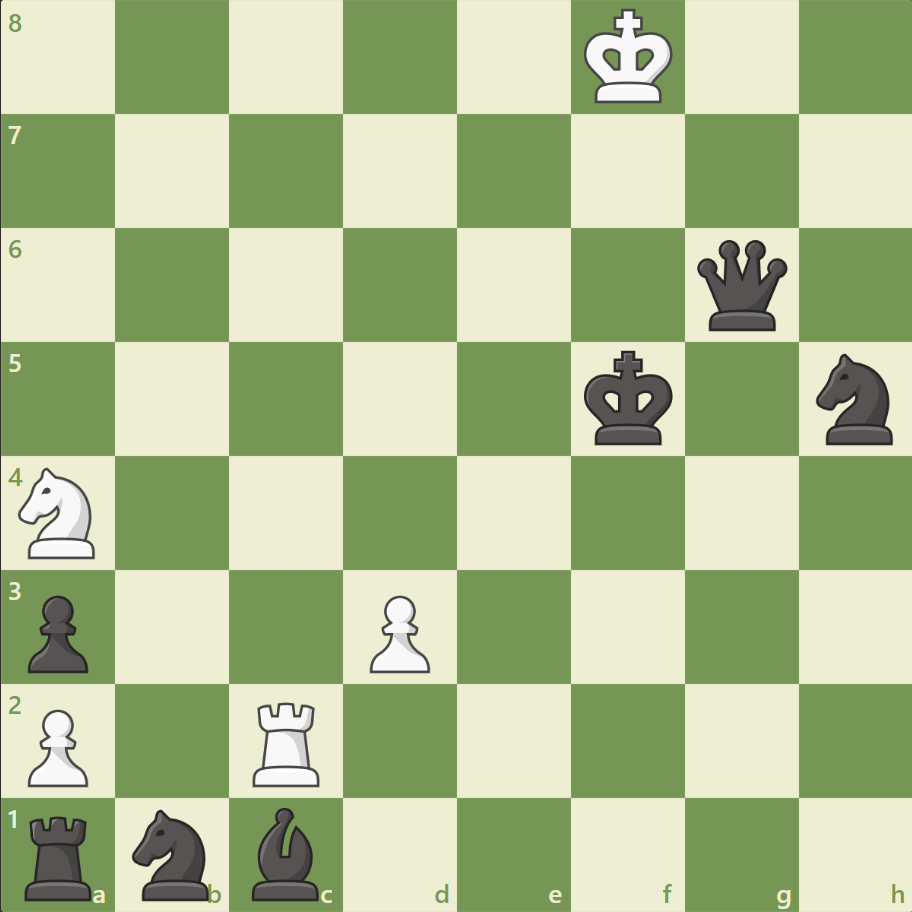K: (579, 4, 679, 112)
N: (11, 461, 108, 564)
P: (20, 700, 95, 791), (361, 586, 435, 677)
R: (246, 693, 329, 790)
b: (244, 801, 328, 904)
k: (579, 344, 679, 452)
n: (124, 802, 222, 904), (806, 348, 903, 450)
p: (20, 586, 95, 677)
q: (691, 236, 790, 335)
r: (19, 806, 102, 904)
